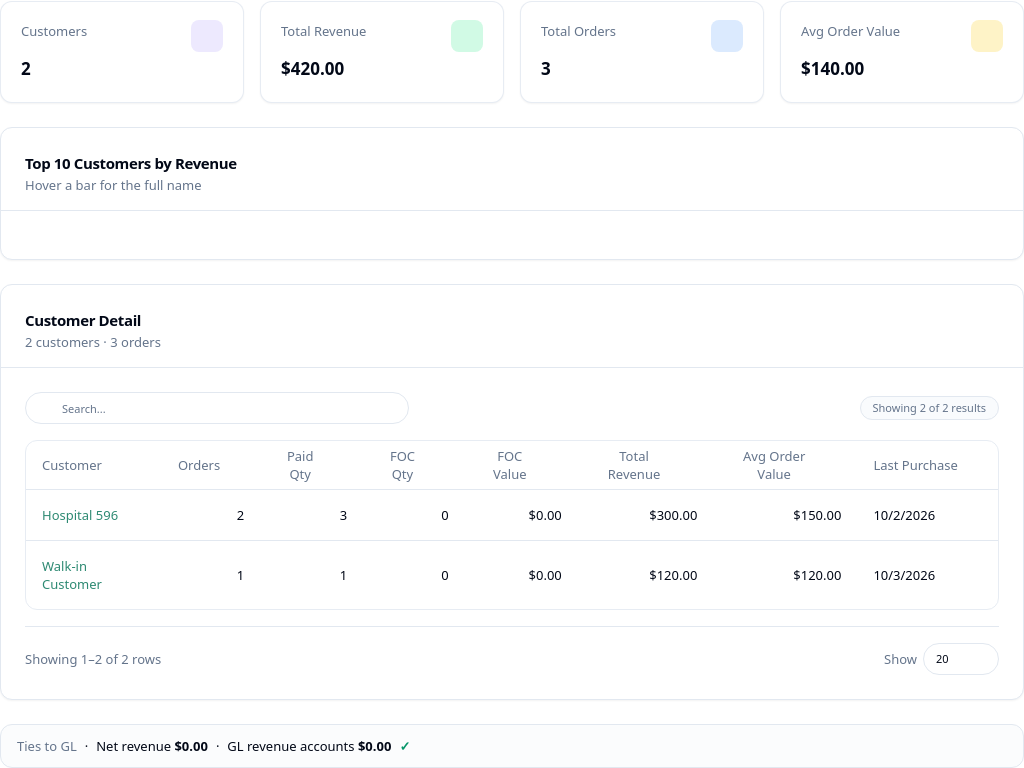
Scenario: SalesAnalyticsPage drill-down (#596) › drills the walk-in row with key "none"
(page scrolled)
Click the button with aria-label "Show documents for Walk-in Customer": (94, 574) x1=42 y1=556 x2=146 y2=592
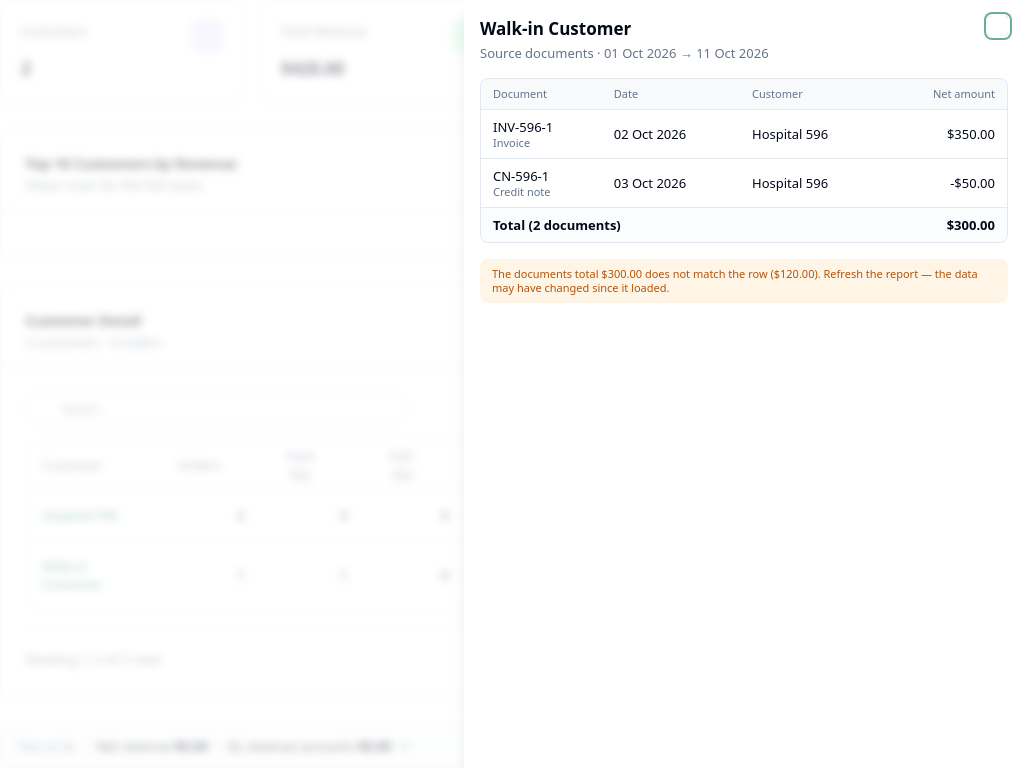
Now the dialog is shown, box x1=464 y1=0 x2=1023 y2=767
